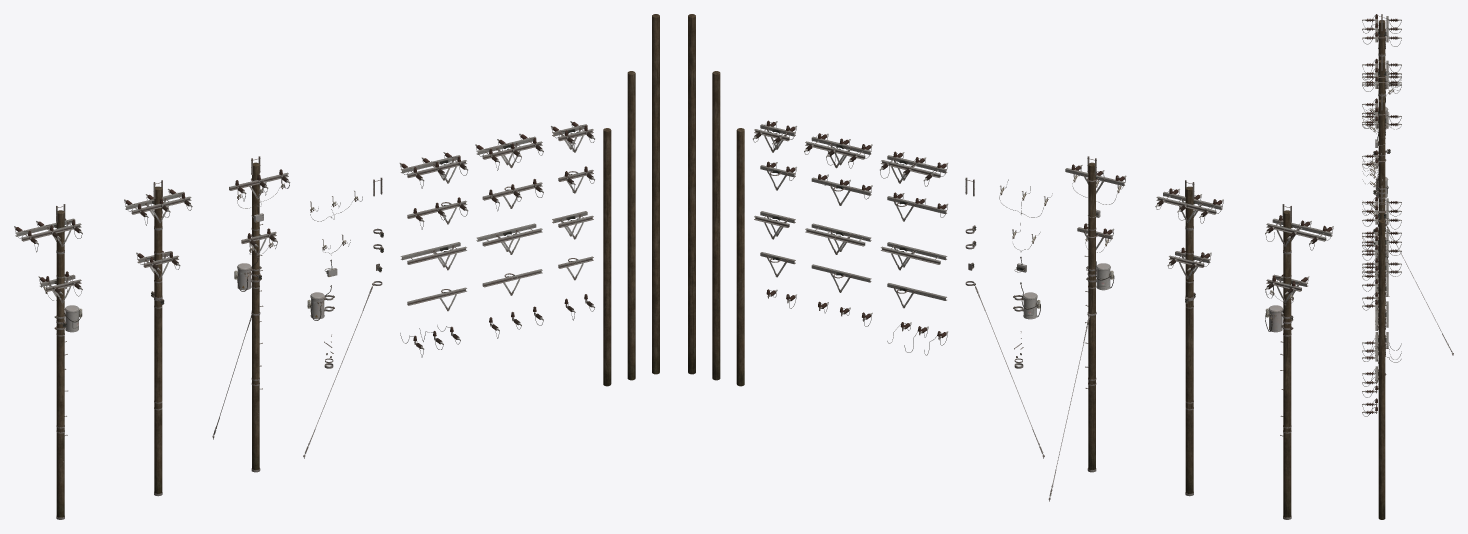
File: modular_electricity_poles.glb
3 renders of one model, left to right at view 1: azimuth 30°, elevation 25°; view 2: azimuth 150°, elevation 25°; view 3: azimuth 270°, elevation 25°, orthographic. The views are drawn at different scales.
Visible parts, largest first — view 1: pole_large, pole, preset_03_pole, preset_02_pole, pole_small, preset_01_pole, connection_large_01, connection_large_offset_01, preset_02_connection_large_01, preset_03_connection_large_offset_01, support_large_01, support_large_offset_01; view 2: pole_large, pole, preset_02_pole, preset_03_pole, preset_01_pole, pole_small, connection_large_01, connection_large_offset_01, preset_02_connection_large_01, preset_03_connection_large_offset_01, support_large_01, support_large_offset_01; view 3: pole_large, preset_01_pole, connection_large_offset_01, preset_03_connection_large_offset_01, preset_02_connection_large_01, connection_large_01, connection_small_01, preset_03_pole, preset_02_pole, preset_01_connection_large_02, preset_02_connection_small_01, preset_03_connection_small_01_02 (+10 smaller).
Boxes of the visible parts, bbox=[...] form: pole_large: bbox=[652, 14, 659, 374]; pole: bbox=[627, 71, 635, 380]; preset_03_pole: bbox=[56, 210, 64, 517]; preset_02_pole: bbox=[154, 186, 162, 493]; pole_small: bbox=[603, 128, 611, 386]; preset_01_pole: bbox=[252, 162, 259, 469]; connection_large_01: bbox=[475, 133, 543, 170]; connection_large_offset_01: bbox=[399, 152, 467, 188]; preset_02_connection_large_01: bbox=[124, 188, 192, 225]; preset_03_connection_large_offset_01: bbox=[14, 218, 82, 252]; support_large_01: bbox=[476, 223, 542, 254]; support_large_offset_01: bbox=[400, 242, 466, 270]; pole_large: bbox=[688, 14, 695, 374]; pole: bbox=[712, 71, 720, 380]; preset_02_pole: bbox=[1185, 186, 1193, 493]; preset_03_pole: bbox=[1283, 210, 1291, 517]; preset_01_pole: bbox=[1088, 162, 1095, 469]; pole_small: bbox=[736, 128, 744, 386]; connection_large_01: bbox=[804, 133, 872, 168]; connection_large_offset_01: bbox=[880, 151, 948, 186]; preset_02_connection_large_01: bbox=[1155, 188, 1223, 223]; preset_03_connection_large_offset_01: bbox=[1265, 215, 1333, 250]; support_large_01: bbox=[805, 223, 871, 254]; support_large_offset_01: bbox=[881, 242, 947, 270]; pole_large: bbox=[1378, 219, 1385, 519]; preset_01_pole: bbox=[1378, 99, 1385, 219]; connection_large_offset_01: bbox=[1362, 196, 1401, 231]; preset_03_connection_large_offset_01: bbox=[1362, 14, 1401, 49]; preset_02_connection_large_01: bbox=[1362, 58, 1401, 88]; connection_large_01: bbox=[1362, 227, 1401, 257]; connection_small_01: bbox=[1362, 258, 1401, 282]; preset_03_pole: bbox=[1378, 20, 1385, 60]; preset_02_pole: bbox=[1378, 60, 1385, 100]; preset_01_connection_large_02: bbox=[1362, 98, 1386, 128]; preset_02_connection_small_01: bbox=[1362, 112, 1401, 135]; preset_03_connection_small_01_02: bbox=[1362, 74, 1401, 95].
Size of the model in its own units: 13.12 by 7 by 1.96.
Materials: 2 (2 with a texture image).
